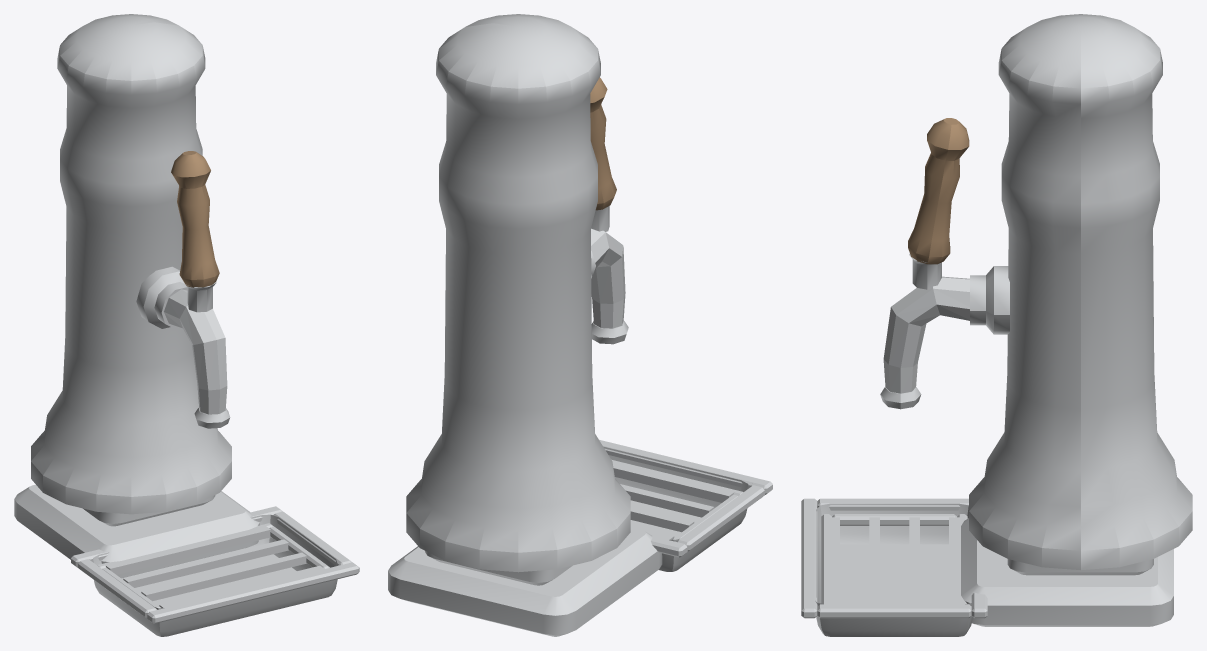
The model's file is bar-pub-and-brewery-taproom-tap-font-single-3e3f6008__18345.glb.
The picture shows the model from 3 angles, left to right: view 1: azimuth 30°, elevation 25°; view 2: azimuth 150°, elevation 25°; view 3: azimuth 270°, elevation 25°; orthographic projection. The views are drawn at different scales.
Parts seen in each view (by area): view 1: tap-font-single; view 2: tap-font-single; view 3: tap-font-single.
Boxes of the visible parts, <box> form: tap-font-single: <box>14,14,359,636</box>; tap-font-single: <box>388,14,772,636</box>; tap-font-single: <box>801,14,1192,636</box>.
Size of the model in its own units: 0.2 by 0.467 by 0.294.
